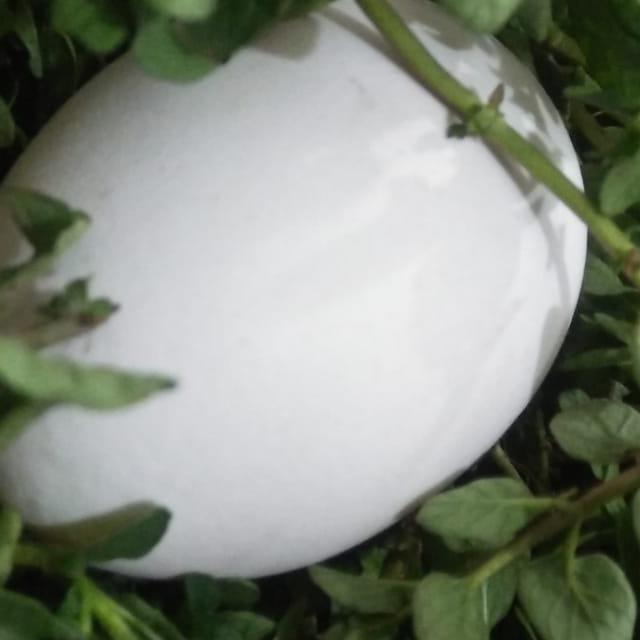egg: (0, 0, 592, 583)
